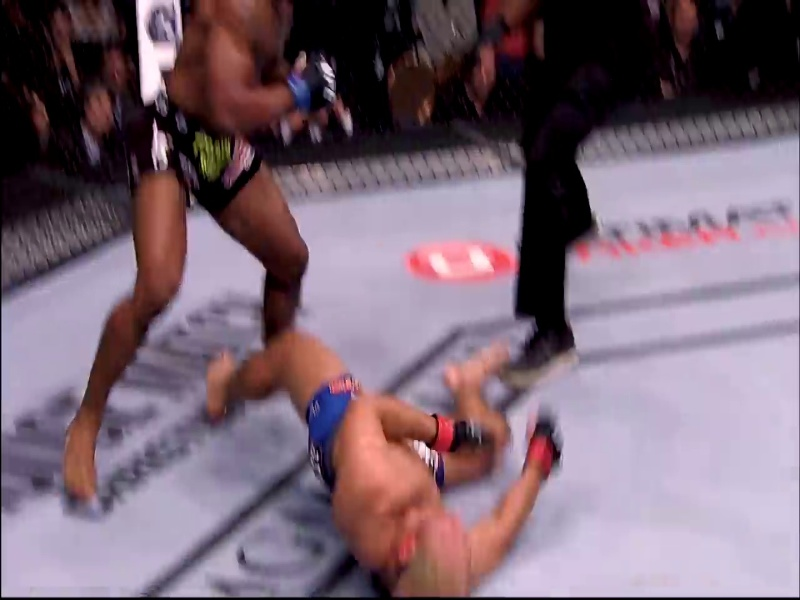fighter: (66, 5, 337, 489), (197, 337, 601, 600)
